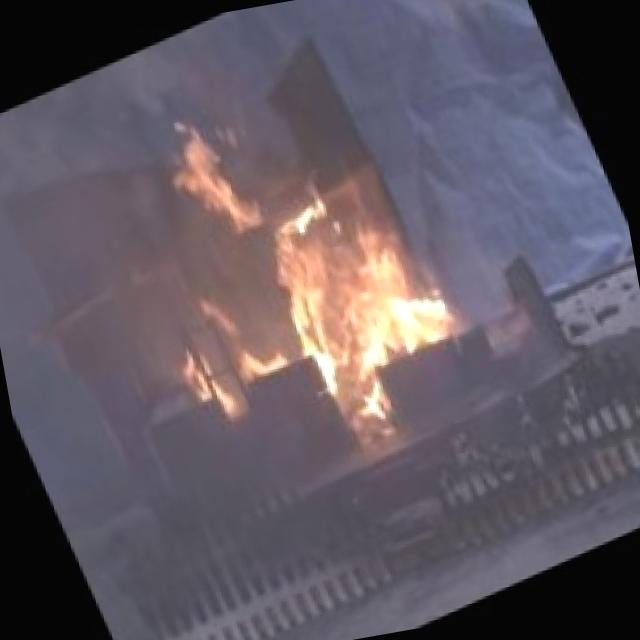fire: (141, 79, 474, 464)
